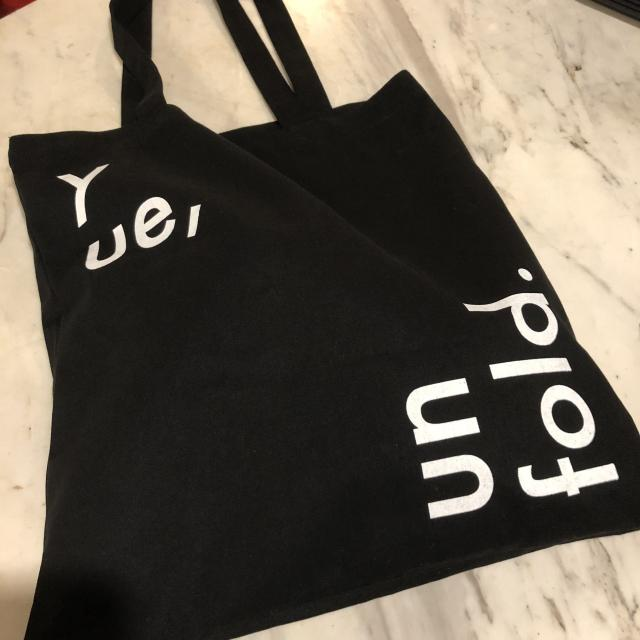ecobag: (5, 8, 632, 611)
